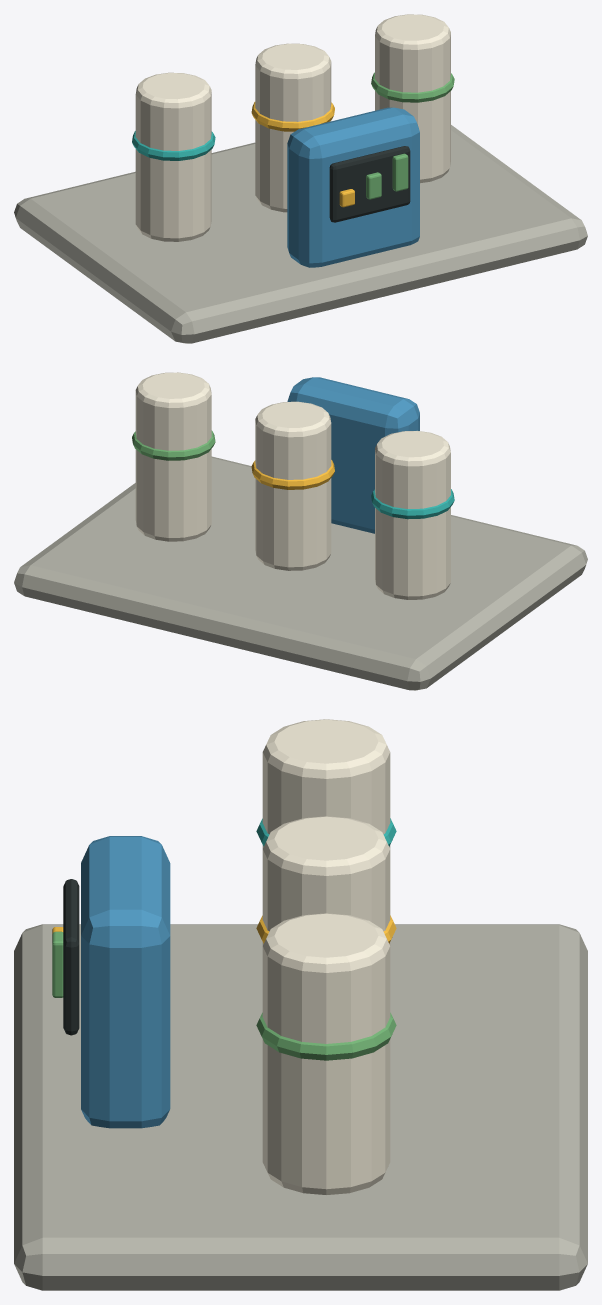
The model's file is wifi-kit-v2.glb.
The picture shows the model from 3 angles, top to bottom: view 1: azimuth 30°, elevation 25°; view 2: azimuth 150°, elevation 25°; view 3: azimuth 270°, elevation 25°; orthographic projection. The views are drawn at different scales.
Parts seen in each view (by area): view 1: WIFI MESH SURVEY KIT · Chalk; view 2: WIFI MESH SURVEY KIT · Chalk; view 3: WIFI MESH SURVEY KIT · Chalk.
Boxes of the visible parts, box(x1,y1,x2,y2) form: WIFI MESH SURVEY KIT · Chalk: box(14, 14, 587, 343); WIFI MESH SURVEY KIT · Chalk: box(14, 372, 587, 690); WIFI MESH SURVEY KIT · Chalk: box(14, 719, 587, 1290).
Size of the model in its own units: 2.5 by 1.02 by 1.8.
1 material, 1 textured.
